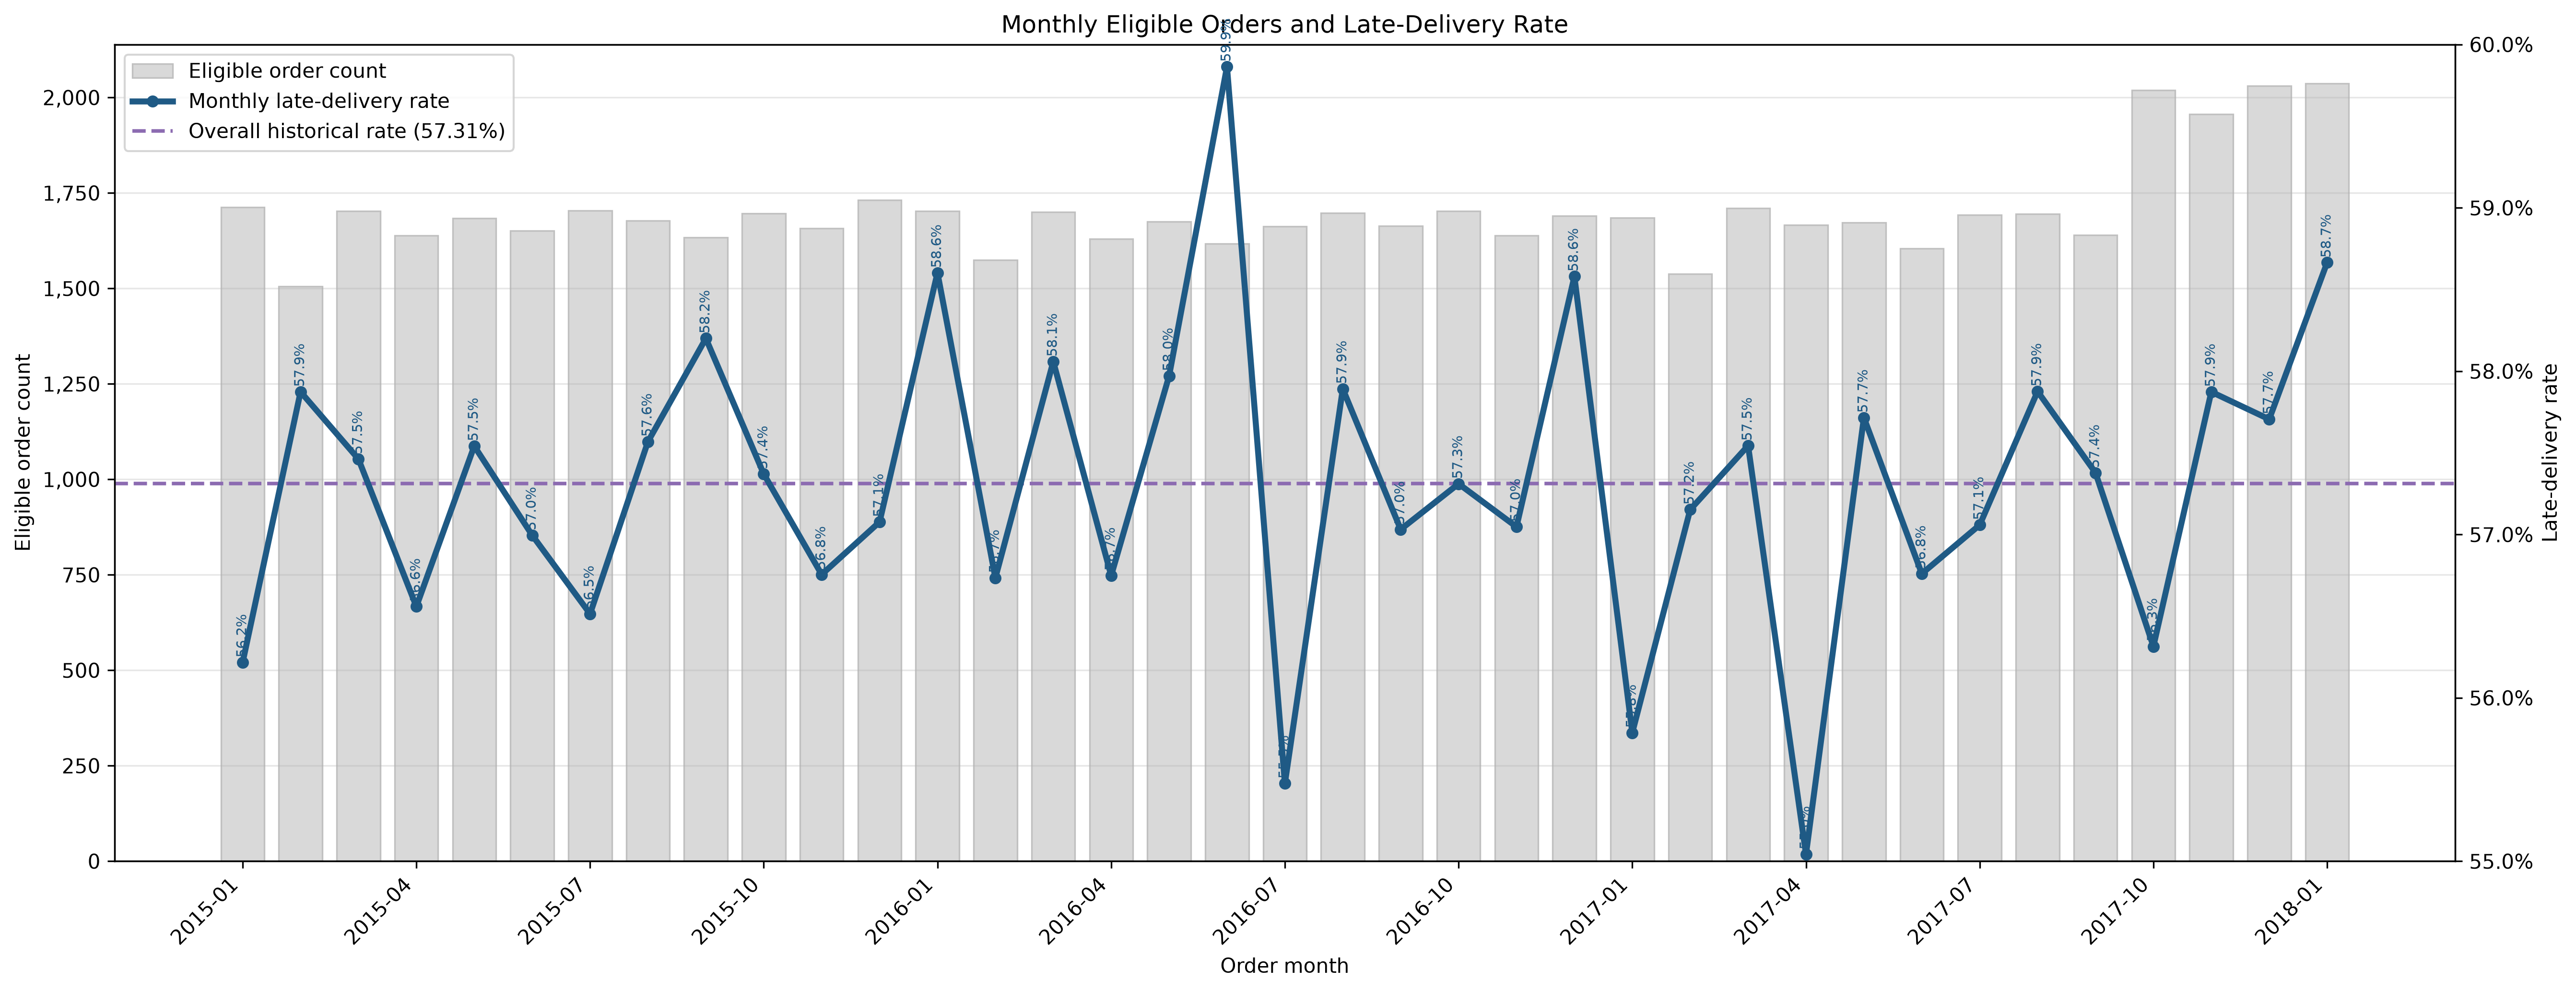

The page's visual inventory and layout, read from the dashboard file:
{"tool":"powerbi","page":{"name":"AQ1: Monthly Delivery Summary","canvas":[1280,720],"ordinal":1},"visuals":[{"type":"lineClusteredColumnComboChart","title":"Monthly Eligible Orders and Late-Delivery Rate","fields":{"Y":["Sum(aq1_monthly_delivery_trend.eligible_order_count)"],"Y2":["Sum(aq1_monthly_delivery_trend.late_delivery_rate)","aq1_monthly_delivery_trend.Overall Historical Rate"],"Category":["aq1_monthly_delivery_trend.Order Month Label"]},"box":[9,107.7,1260.6,563.4],"z":0}]}

Visuals, with their boxes on the page's 1280x720 design canvas (x1, y1, x2, y2). These are canvas units, not pixel positions in the 2576x992 screenshot, which may show the page scaled, cropped or inside an application window:
"Monthly Eligible Orders and Late-Delivery Rate" lineClusteredColumnComboChart: [9,108,1270,671]
